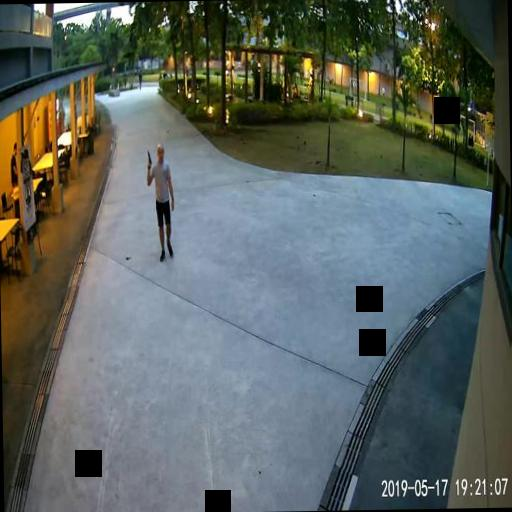Handgun: (146, 148, 152, 169)
